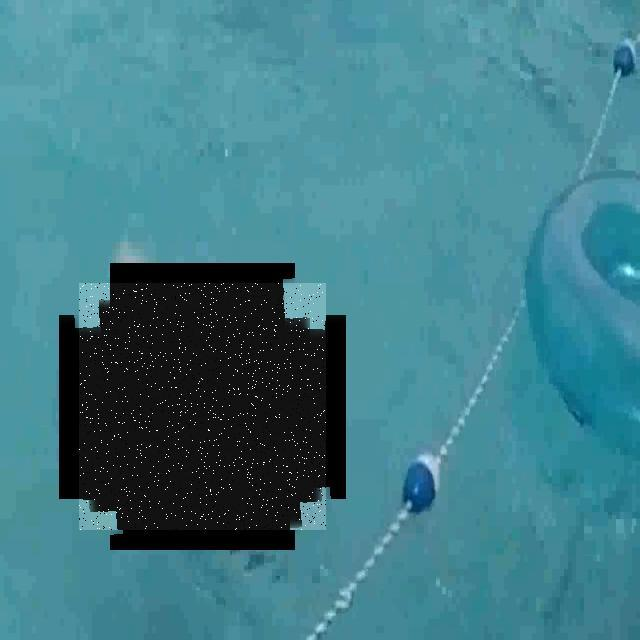Out of Water: (79, 283, 326, 530)
